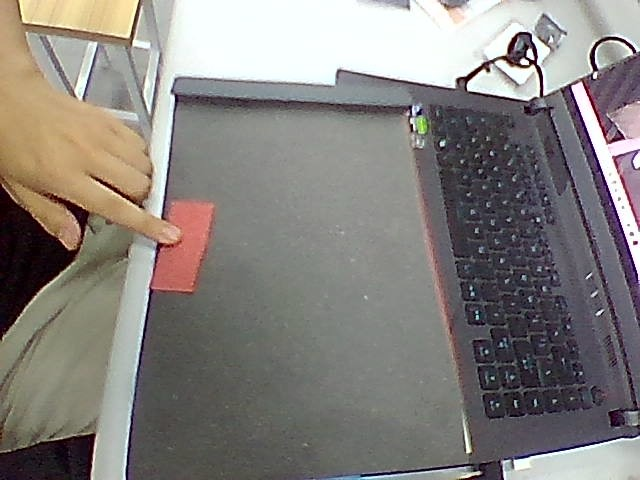card: (150, 201, 215, 292)
